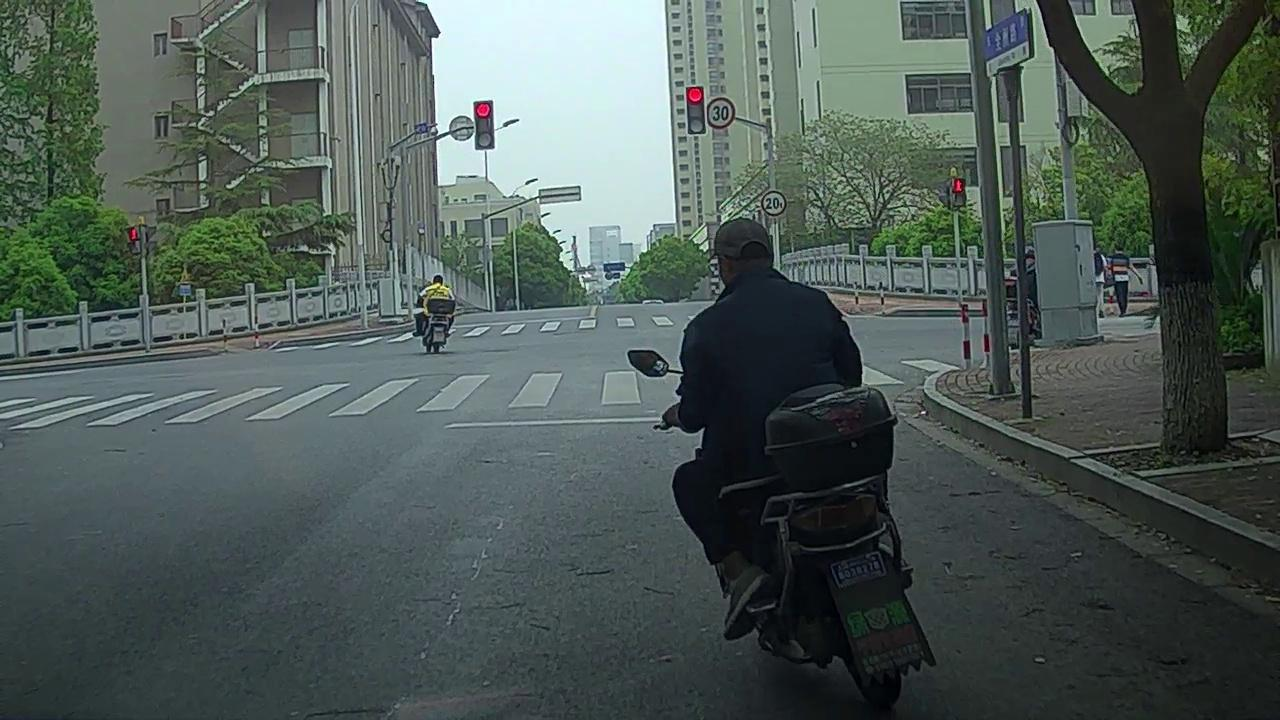traffic_light: (684, 88, 705, 134), (476, 102, 495, 147)
